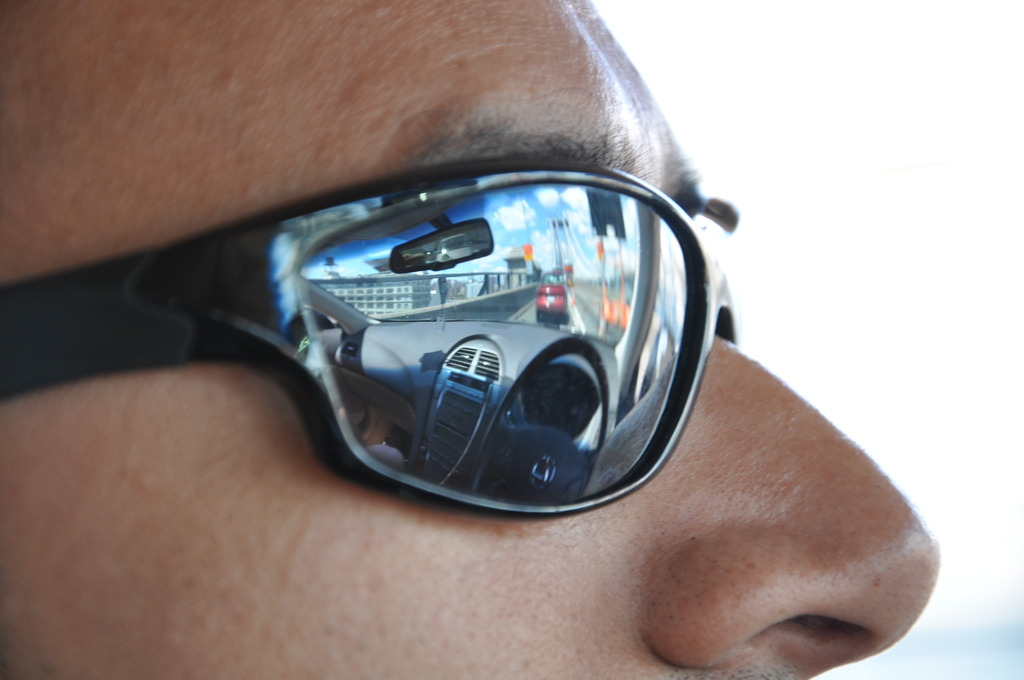cars: (145, 139, 755, 521)
